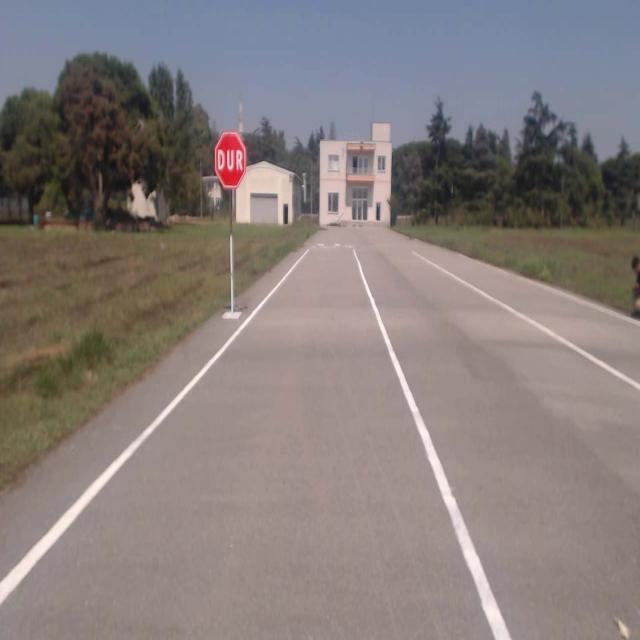dur: (212, 130, 246, 191)
